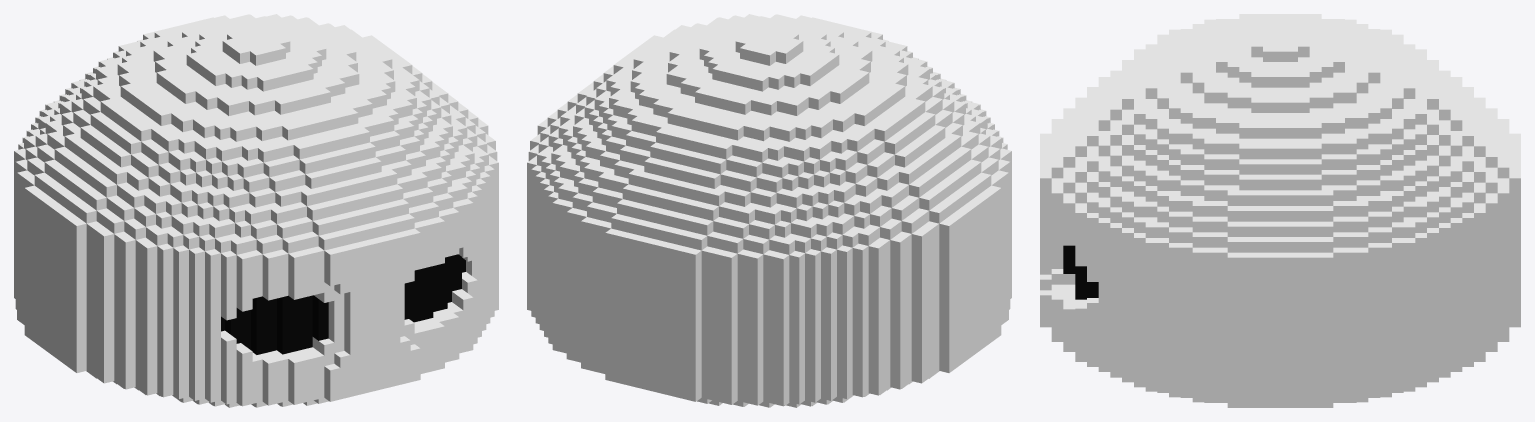
The model's file is Soul.obj.
The picture shows the model from 3 angles, left to right: view 1: azimuth 30°, elevation 25°; view 2: azimuth 150°, elevation 25°; view 3: azimuth 270°, elevation 25°; orthographic projection.
Bounding box in the file's own units: 4.1 × 2.9 × 4.1.
Materials: 1 (1 with a texture image).
